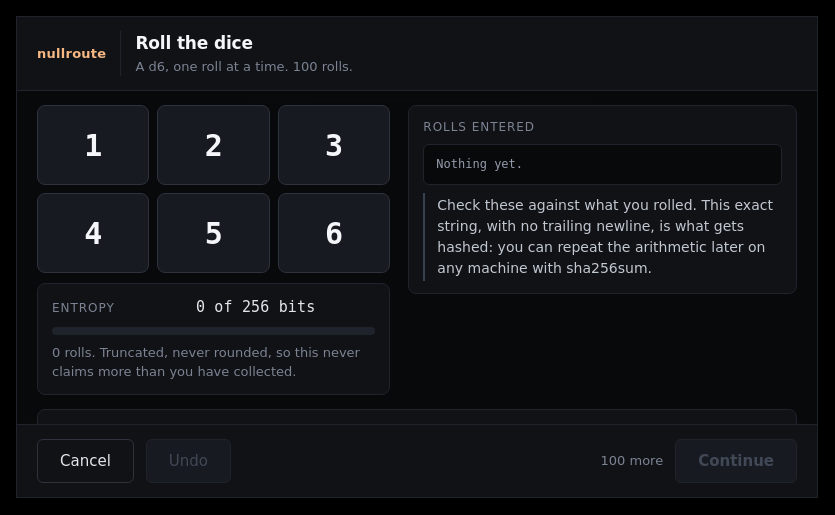
Test: ui.screens.dice › shows-accounting-from-the-daemon
Click the button with test id "die-4".
click(93, 233)  # box [37,193,149,273]
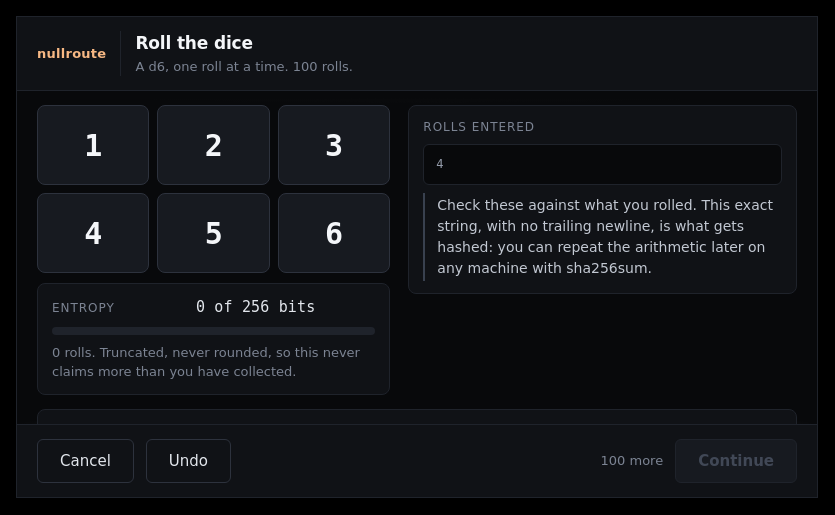
Click the button with test id "die-2".
click(214, 145)  # box [157,105,270,185]
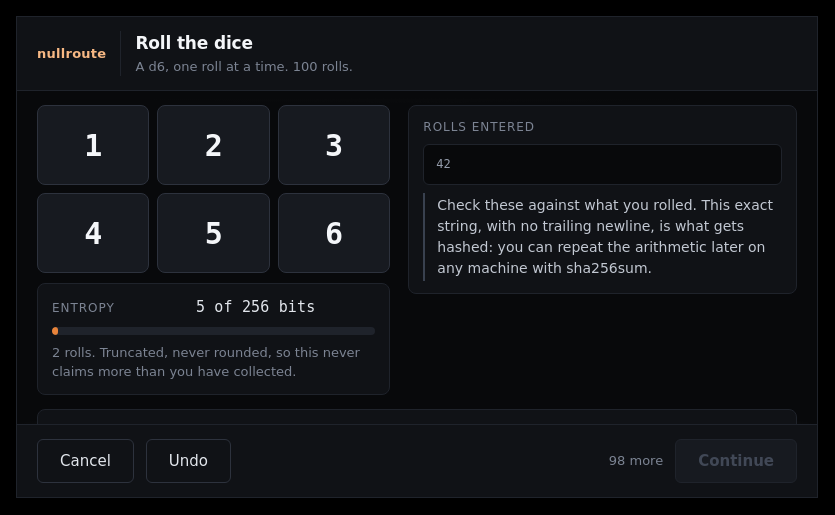
expect the text with test id "dice-bits" shows "5 of 256": met, box [196,296,315,318]
